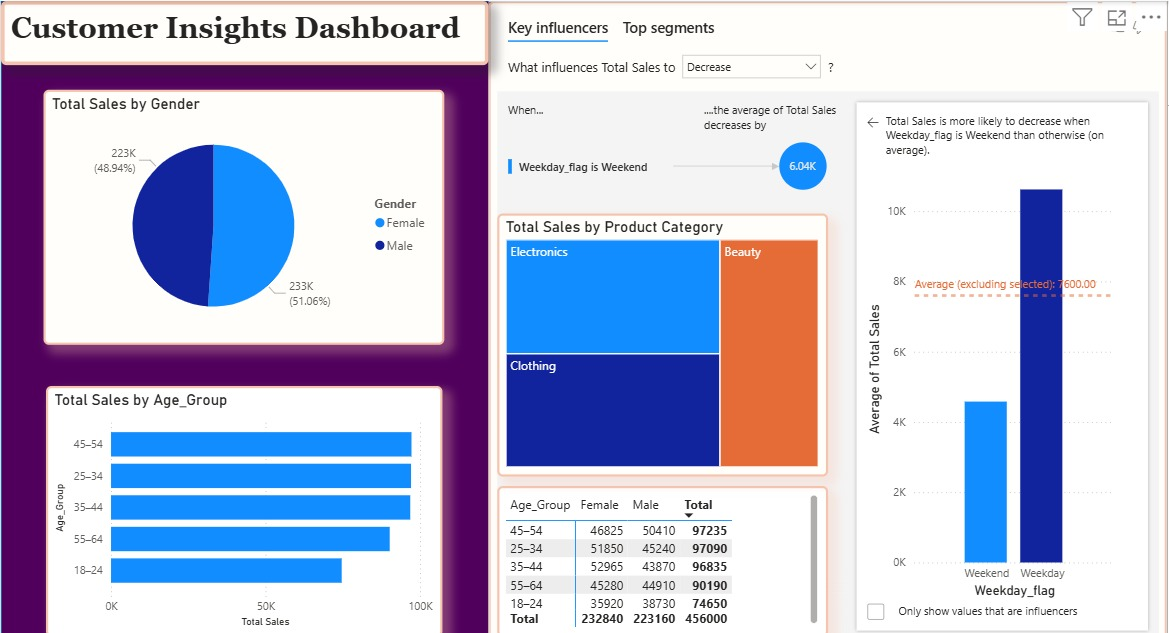

What the dashboard file says about the page in this screenshot:
{"tool":"powerbi","page":{"name":"Customer Insights Dashboard","canvas":[1280,720],"ordinal":1},"visuals":[{"type":"shape","box":[0,0,1280,710],"z":0},{"type":"pieChart","fields":{"Category":["Retail Sales.Gender"],"Y":["Retail Sales.Total Sales"]},"box":[46.2,97.5,440,280],"z":1000},{"type":"clusteredBarChart","fields":{"Category":["Retail Sales.Age_Group"],"Y":["Retail Sales.Total Sales"]},"box":[48.8,422.5,435,275],"z":2000},{"type":"keyDriversVisual","fields":{"Target":["Retail Sales.Total Sales"],"ExplainBy":["Retail Sales.Product Category","Retail Sales.Age_Group","Retail Sales.Gender","Retail Sales.Weekday_flag"]},"box":[535,0,745,710],"z":3000},{"type":"pivotTable","fields":{"Rows":["Retail Sales.Age_Group"],"Columns":["Retail Sales.Gender"],"Values":["Retail Sales.Total Sales"]},"box":[544.3,532.9,362.9,165.7],"z":4000},{"type":"treemap","fields":{"Group":["Retail Sales.Product Category"],"Values":["Retail Sales.Total Sales"]},"box":[544.3,232.9,362.9,288.6],"z":5000},{"type":"textbox","box":[0,0,535,70],"z":6000}]}

Visuals, with their boxes on the page's 1280x720 design canvas (x1, y1, x2, y2). These are canvas units, not pixel positions in the 1169x633 screenshot, which may show the page scaled, cropped or inside an application window:
shape: pyautogui.locateOnScreen(0, 0, 1280, 710)
pieChart - Retail Sales.Gender x Retail Sales.Total Sales: pyautogui.locateOnScreen(46, 98, 486, 378)
clusteredBarChart - Retail Sales.Age_Group x Retail Sales.Total Sales: pyautogui.locateOnScreen(49, 422, 484, 698)
keyDriversVisual - Retail Sales.Total Sales x Retail Sales.Product Category: pyautogui.locateOnScreen(535, 0, 1280, 710)
pivotTable - Retail Sales.Age_Group x Retail Sales.Gender: pyautogui.locateOnScreen(544, 533, 907, 699)
treemap - Retail Sales.Product Category x Retail Sales.Total Sales: pyautogui.locateOnScreen(544, 233, 907, 522)
textbox: pyautogui.locateOnScreen(0, 0, 535, 70)
